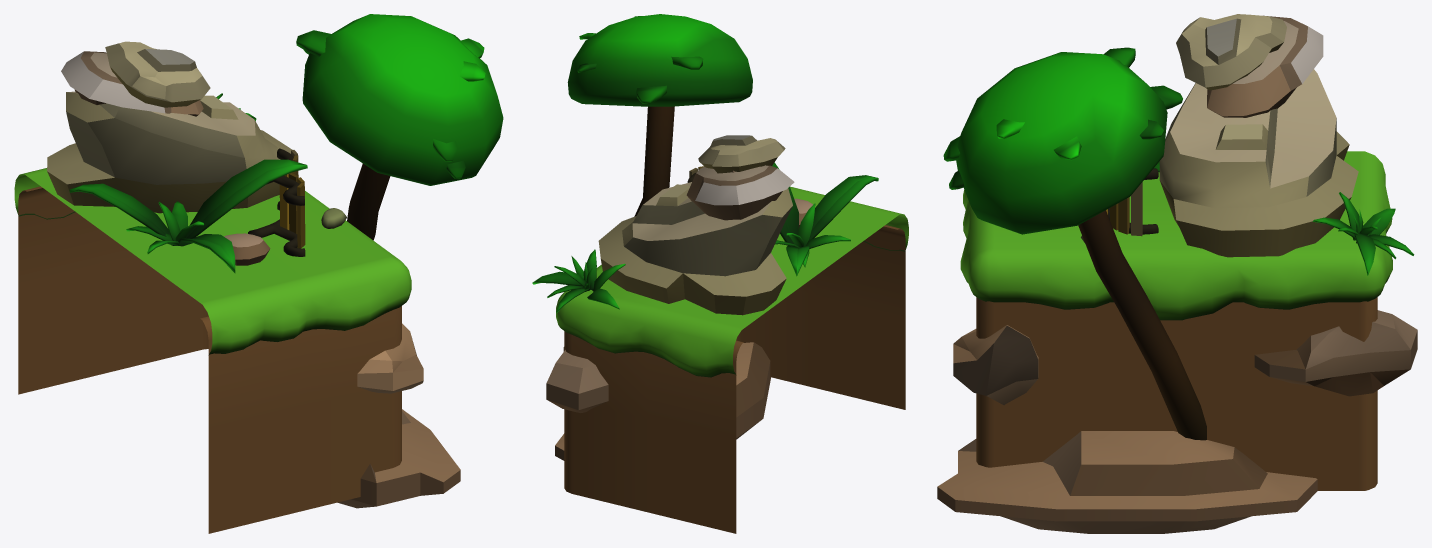
File: Tutor_Island_05.fbx
3 renders of one model, left to right at view 1: azimuth 30°, elevation 25°; view 2: azimuth 150°, elevation 25°; view 3: azimuth 270°, elevation 25°, orthographic. The views are drawn at different scales.
Visible parts, largest first — view 1: Island_05; view 2: Island_05; view 3: Island_05.
Boxes of the visible parts, box(x1,y1,x2,y2) form: Island_05: box(14, 14, 503, 533); Island_05: box(532, 14, 908, 533); Island_05: box(937, 14, 1417, 533).
Bounding box in the file's own units: 6639 × 8754 × 7898.
